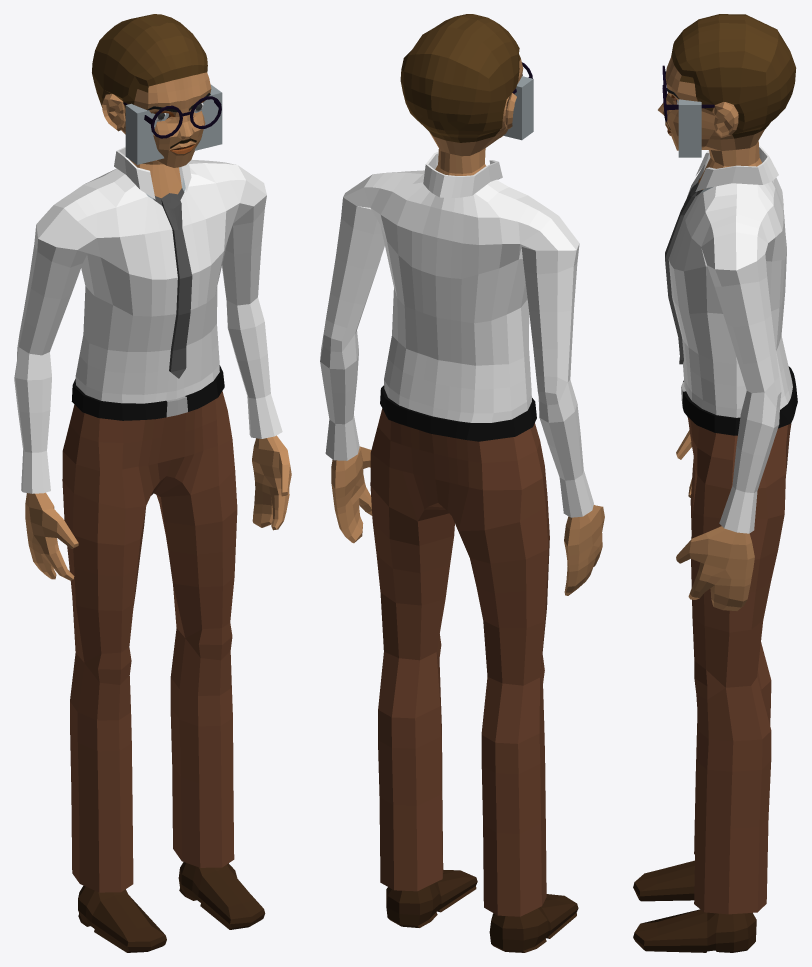
File: TeacherMale_A_Stand_Mask.fbx
The picture shows the model from 3 angles, left to right: view 1: azimuth 30°, elevation 25°; view 2: azimuth 150°, elevation 25°; view 3: azimuth 270°, elevation 25°; orthographic projection. The views are drawn at different scales.
Visible parts, largest first — view 1: TeacherMale_A_Stand_Mask; view 2: TeacherMale_A_Stand_Mask; view 3: TeacherMale_A_Stand_Mask.
Boxes of the visible parts, bbox=[...] form: TeacherMale_A_Stand_Mask: bbox=[14, 14, 291, 952]; TeacherMale_A_Stand_Mask: bbox=[320, 14, 604, 952]; TeacherMale_A_Stand_Mask: bbox=[633, 14, 797, 952].
Size of the model in its own units: 0.2883 by 0.9445 by 0.1568.
